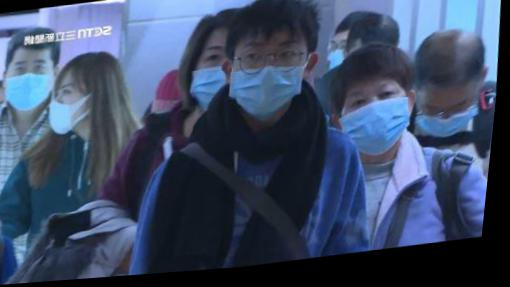OK: (229, 39, 314, 124), (341, 84, 415, 162), (190, 41, 258, 120), (419, 95, 484, 147), (5, 55, 60, 113), (328, 42, 356, 82)
WRONG: (48, 77, 93, 139)
